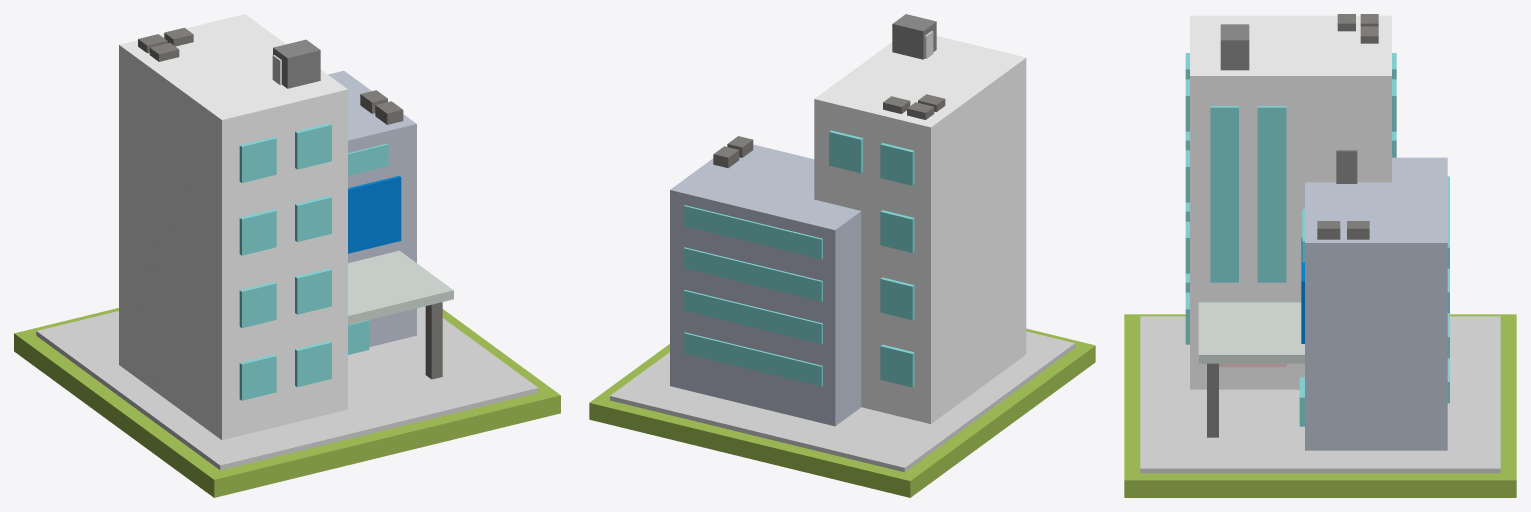
The model's file is office-3.glb.
The picture shows the model from 3 angles, left to right: view 1: azimuth 30°, elevation 25°; view 2: azimuth 150°, elevation 25°; view 3: azimuth 270°, elevation 25°; orthographic projection. The views are drawn at different scales.
Visible parts, largest first — view 1: Building_1, Ground_Foundation, Cube, Building_2, Platform, Screen_2, Service, Window__2_, Window__1_, Window__3_, Window__4_, Window__8_ (+6 smaller); view 2: Building_1, Building_2, Ground_Foundation, Cube, Window__11__1, Window__13_, Window__10__1, Window__12_, Service, Window__1__1, Window__3__1, Window__4__1 (+2 smaller); view 3: Building_2, Building_1, Ground_Foundation, Cube, Platform, Window__11_, Window__10_, Service, Stand, Door, AC__1_, AC__2_.
Boxes of the visible parts, x1,y1,x2,y2 form: Building_1: (119,14,347,440); Ground_Foundation: (36,306,538,470); Cube: (14,308,560,497); Building_2: (328,70,416,346); Platform: (348,250,453,324); Screen_2: (348,176,401,253); Service: (273,39,320,88); Window__2_: (239,282,276,328); Window__1_: (239,354,276,400); Window__3_: (239,209,276,255); Window__4_: (239,137,276,182); Window__8_: (295,123,331,169); Building_1: (814,36,1026,423); Building_2: (670,144,861,426); Ground_Foundation: (610,331,1074,472); Cube: (589,328,1095,497); Window__11__1: (683,247,822,301); Window__13_: (683,332,822,386); Window__10__1: (683,205,822,259); Window__12_: (683,290,822,344); Service: (892,14,936,59); Window__1__1: (880,344,914,387); Window__3__1: (880,210,914,252); Window__4__1: (880,143,914,185); Building_2: (1305,157,1447,450); Building_1: (1190,15,1391,389); Ground_Foundation: (1140,316,1500,473); Cube: (1124,314,1516,497); Platform: (1198,302,1304,363); Window__11_: (1257,106,1286,282); Window__10_: (1210,106,1238,282); Service: (1220,24,1249,70); Stand: (1207,363,1218,437); Door: (1336,150,1357,183); AC__1_: (1317,221,1340,239); AC__2_: (1347,221,1369,239).
Size of the model in its own units: 1 by 1.03 by 1.
